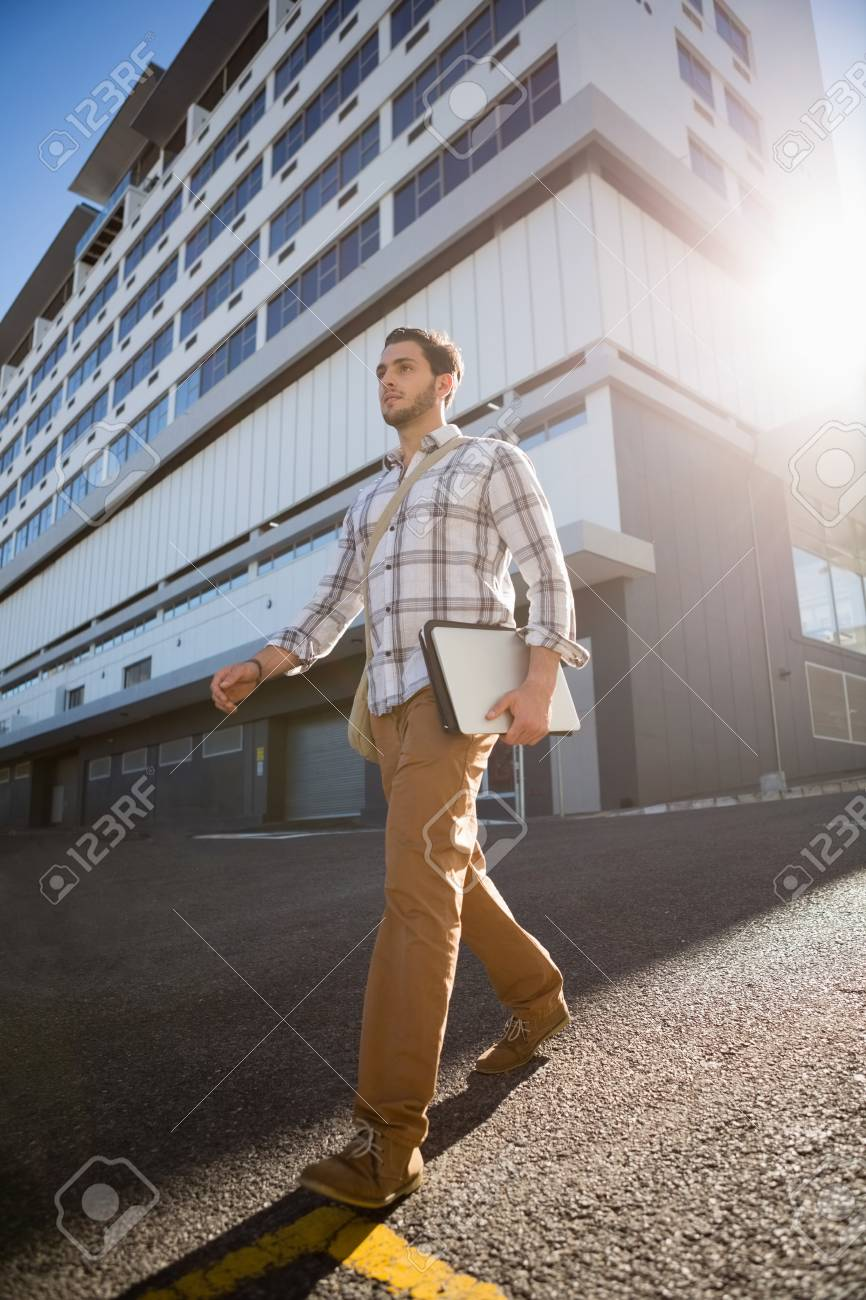Person: (197, 319, 590, 1219)
